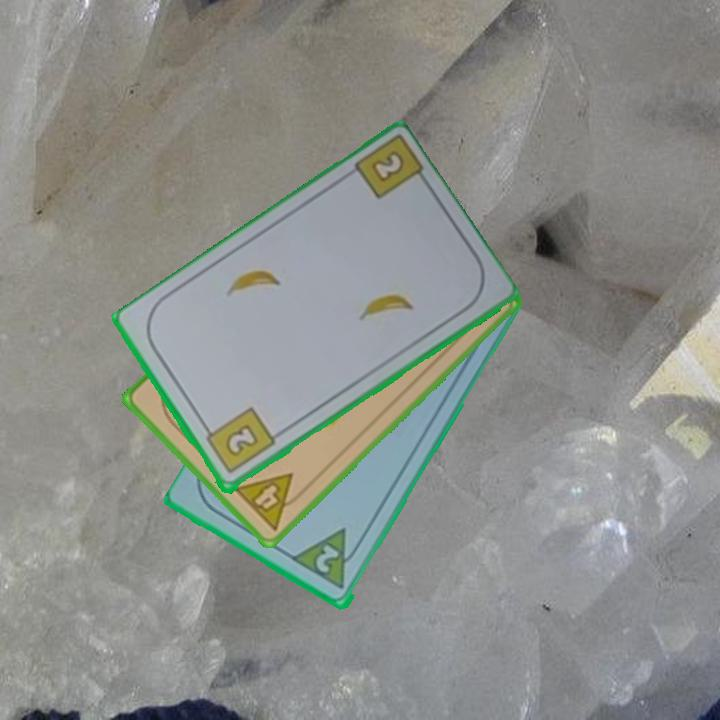2b: (200, 404, 278, 477), (367, 147, 407, 186)
2p: (290, 525, 366, 593)
4p: (229, 469, 310, 534)
